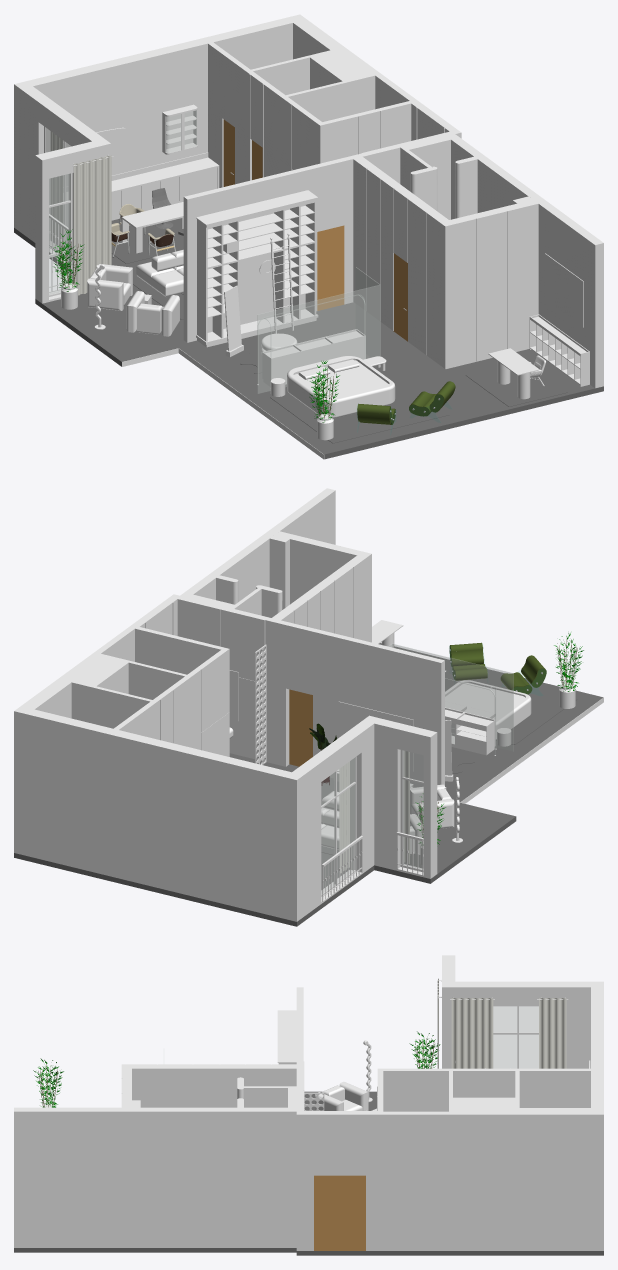
The model's file is vouge.glb.
3 renders of one model, top to bottom at view 1: azimuth 30°, elevation 25°; view 2: azimuth 150°, elevation 25°; view 3: azimuth 270°, elevation 25°, orthographic. The views are drawn at different scales.
Size of the model in its own units: 10887 by 4497 by 17053.
